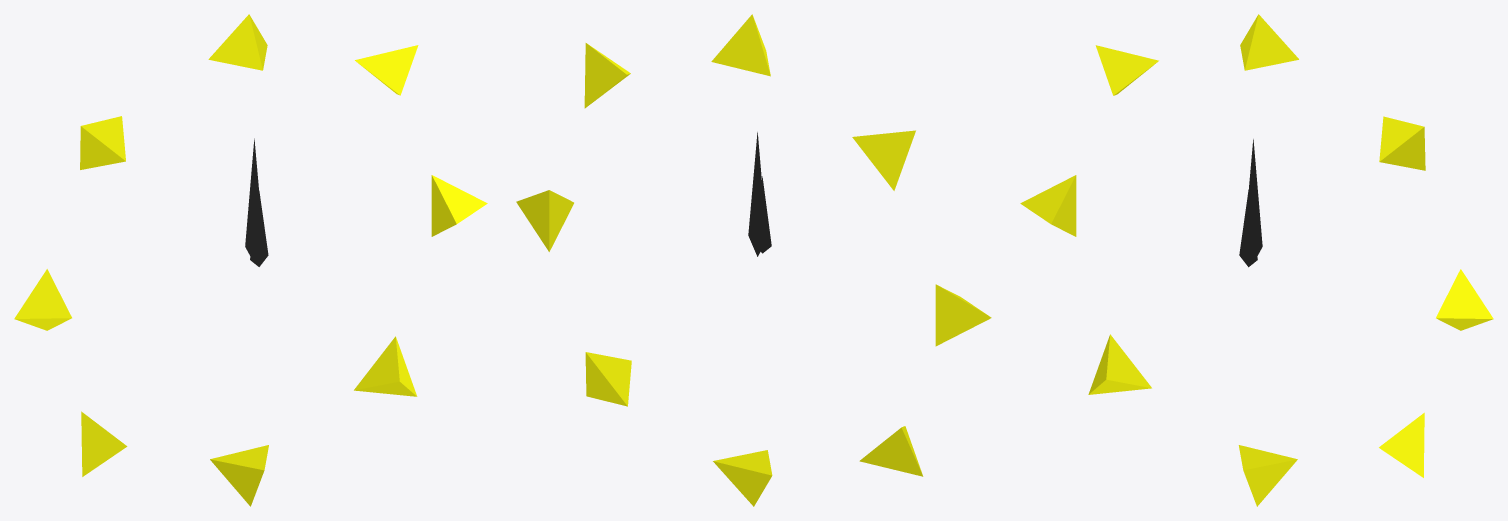
Rendered from uvmd-0228.glb.
The picture shows the model from 3 angles, left to right: view 1: azimuth 30°, elevation 25°; view 2: azimuth 150°, elevation 25°; view 3: azimuth 330°, elevation 25°; orthographic projection.
Visible parts, largest first — view 1: uvmd-0228; view 2: uvmd-0228; view 3: uvmd-0228.
Part boxes in pixels (<box>): uvmd-0228: <box>14,14,487,506</box>; uvmd-0228: <box>516,14,991,506</box>; uvmd-0228: <box>1020,14,1493,506</box>.
Bounding box in the file's own units: 2549 × 2529 × 273.
1 material, 1 textured.
